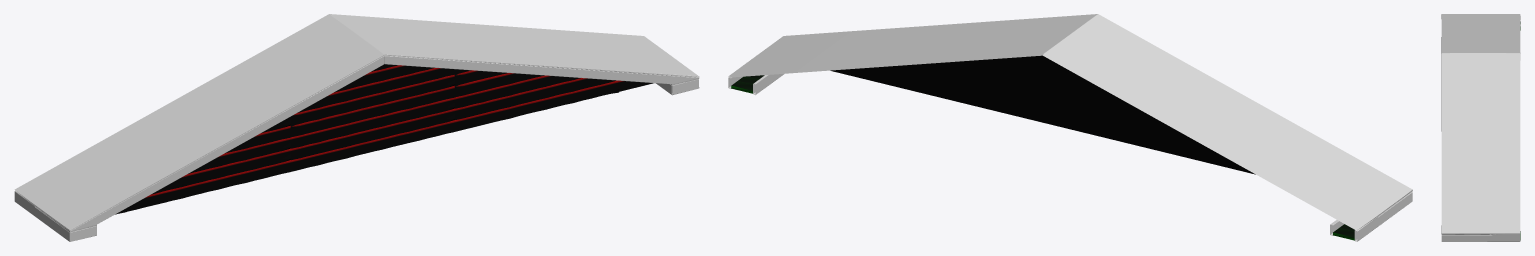
File: SM_House_Roof_A_LongEnd.fbx
The picture shows the model from 3 angles, left to right: view 1: azimuth 30°, elevation 25°; view 2: azimuth 150°, elevation 25°; view 3: azimuth 270°, elevation 25°; orthographic projection. The views are drawn at different scales.
Visible parts, largest first — view 1: SM_House_Roof_A_LongEnd; view 2: SM_House_Roof_A_LongEnd; view 3: SM_House_Roof_A_LongEnd.
Part boxes in pixels (x1,y1,x2,y2): SM_House_Roof_A_LongEnd: [14, 14, 699, 241]; SM_House_Roof_A_LongEnd: [728, 14, 1412, 241]; SM_House_Roof_A_LongEnd: [1441, 14, 1520, 241].
Bounding box in the file's own units: 1151 × 175 × 194.
